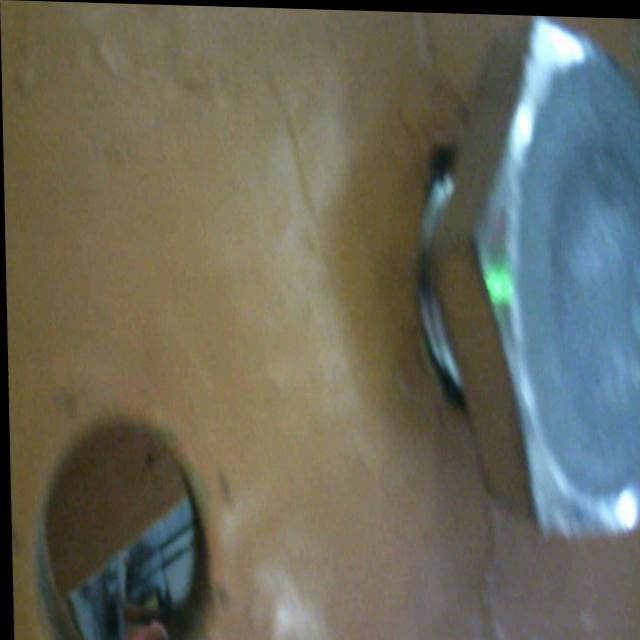Loose bolt: (409, 10, 640, 546)
Missing bolt: (29, 391, 215, 640)
Regular bolt: (424, 22, 640, 519)
